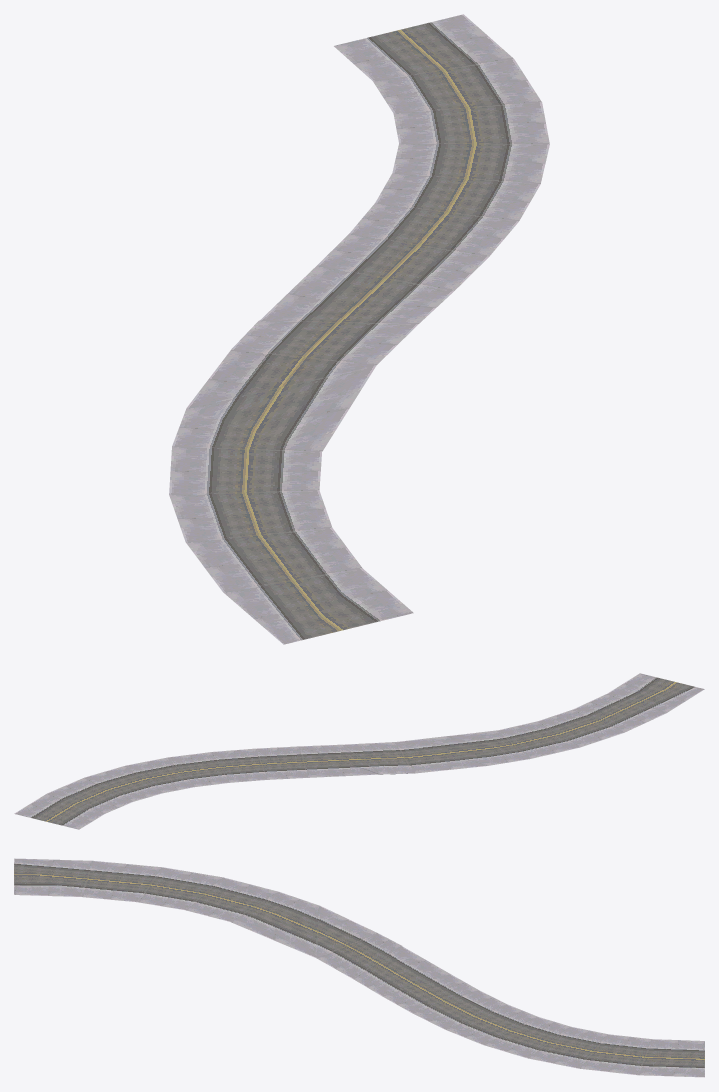
File: lodaswedge23.obj
3 renders of one model, top to bottom at view 1: azimuth 30°, elevation 25°; view 2: azimuth 150°, elevation 25°; view 3: azimuth 270°, elevation 25°, orthographic. The views are drawn at different scales.
Parts seen in each view (by area): view 1: lodasWedge23; view 2: lodasWedge23; view 3: lodasWedge23.
Boxes of the visible parts, x1,y1,x2,y2 form: lodasWedge23: (169, 14, 549, 644); lodasWedge23: (14, 673, 704, 829); lodasWedge23: (14, 858, 704, 1077).
Bounding box in the file's own units: 120 × 0.2746 × 160.
1 material, 1 textured.
